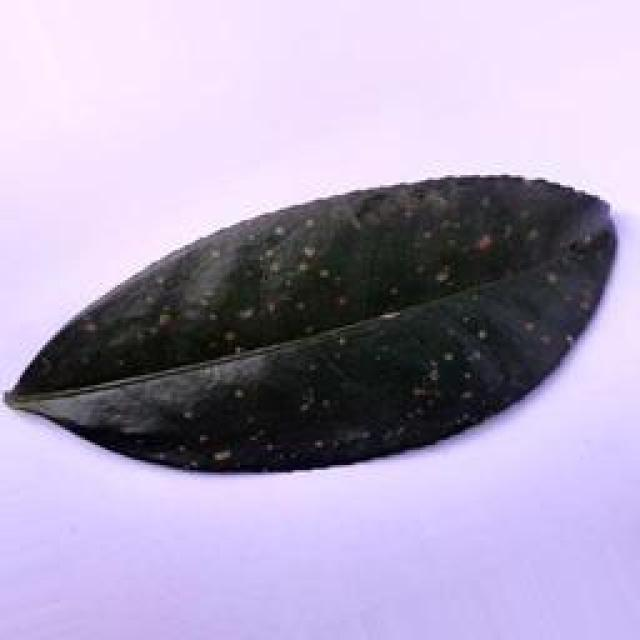Algal Leaf Spot: (10, 170, 614, 474)
